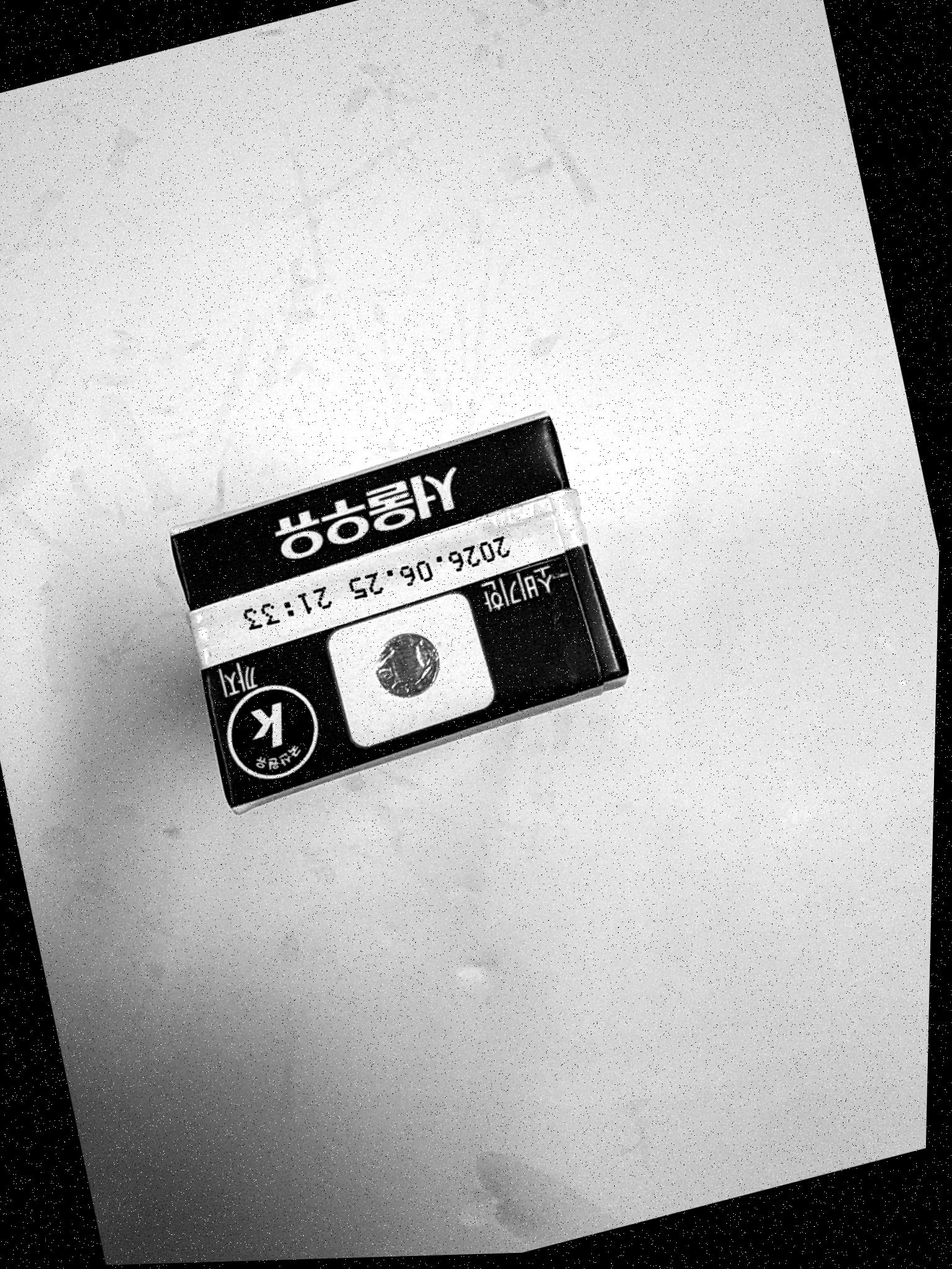milk_green: (171, 415, 627, 811)
